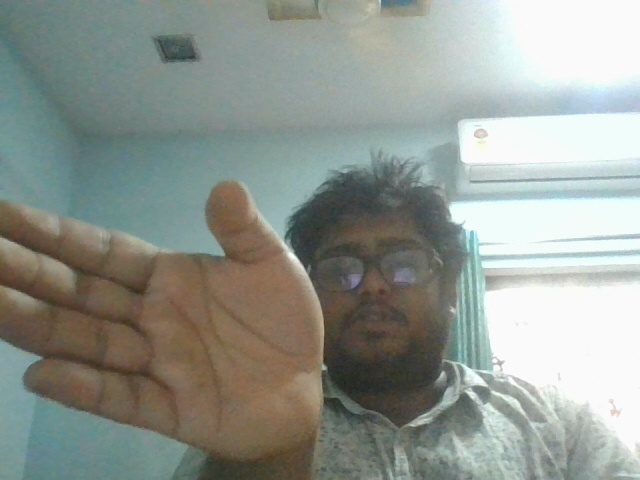RIGHT: (1, 169, 325, 456)
